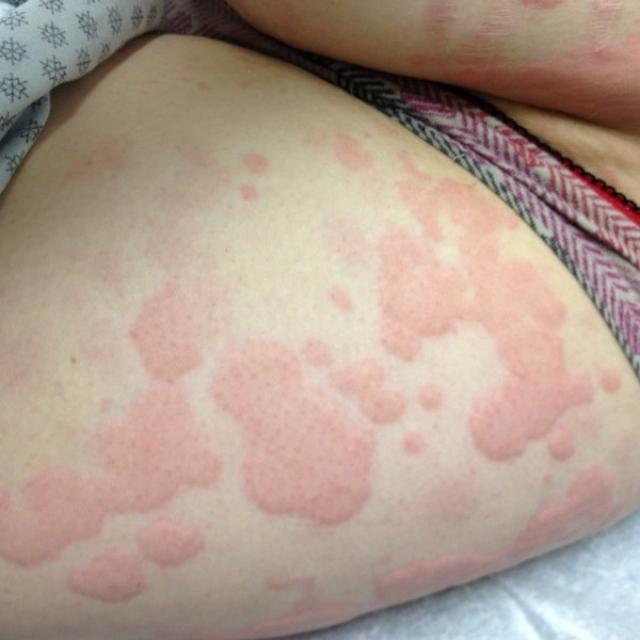hives: (0, 252, 558, 587), (387, 3, 640, 78)
